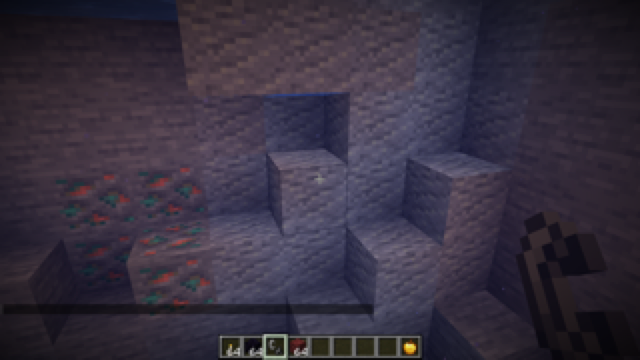copper: (53, 164, 219, 317)
